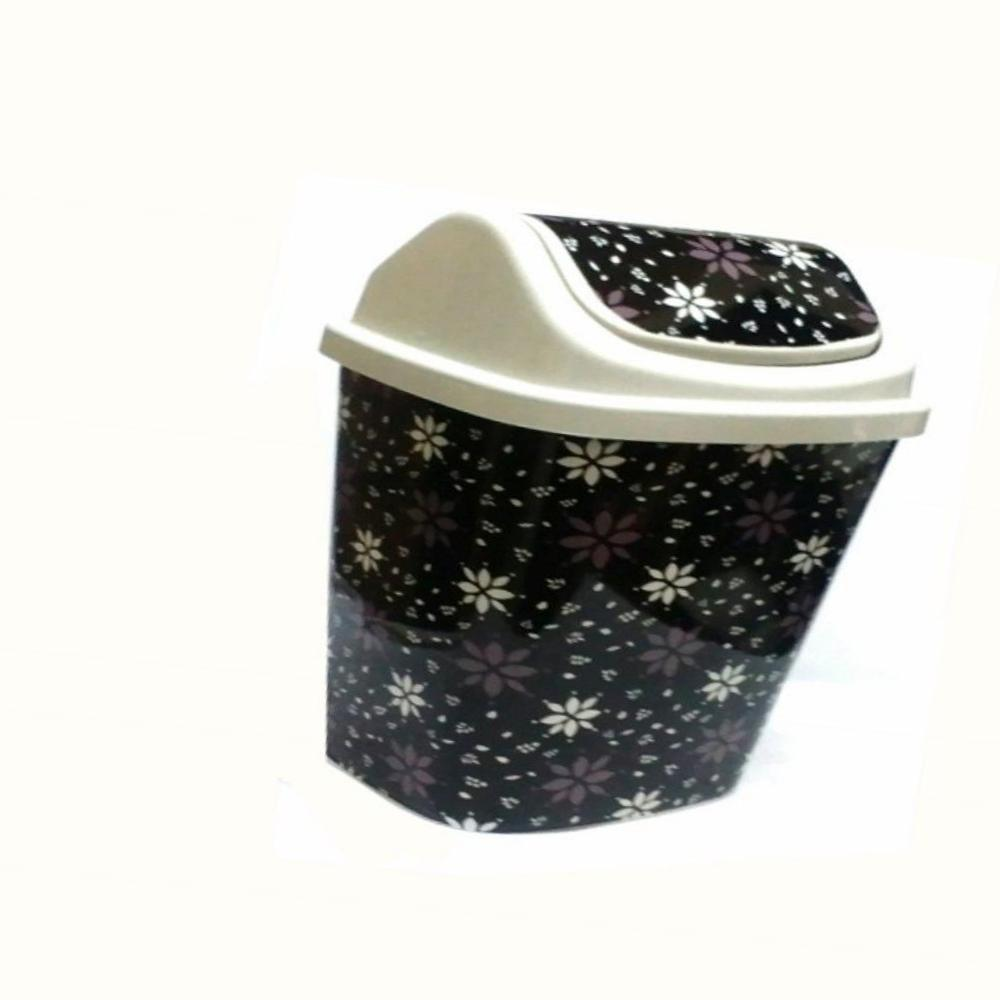Bote de Basura: (277, 217, 921, 833)
